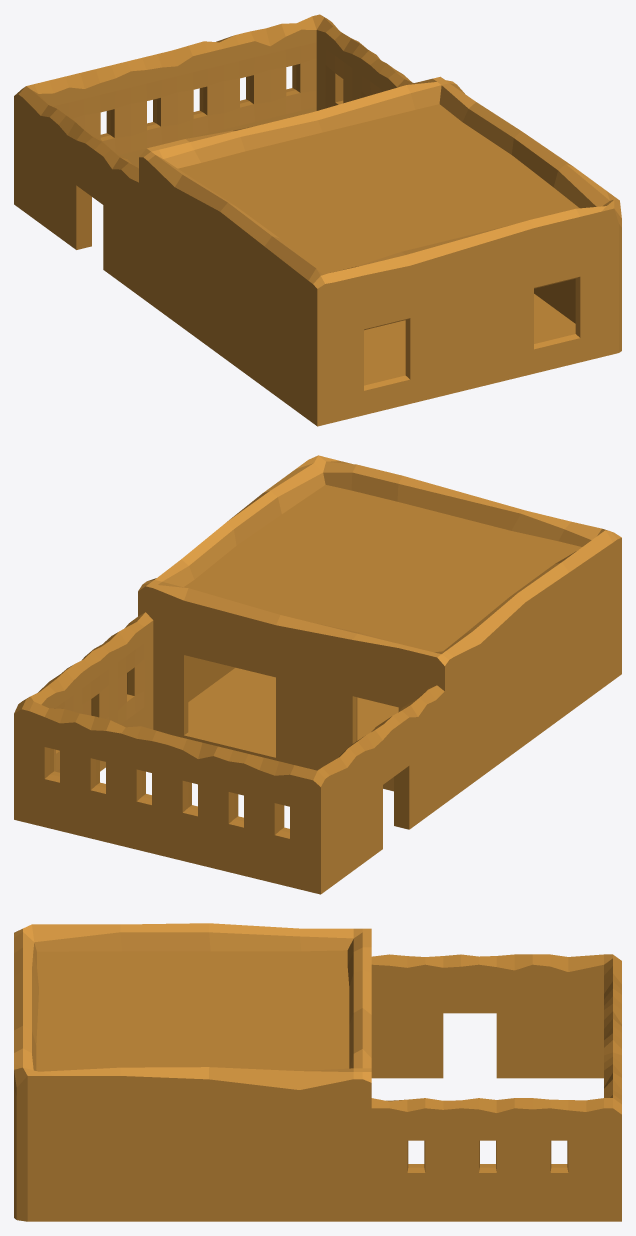
Rendered from Building_L3.fbx.
3 renders of one model, top to bottom at view 1: azimuth 30°, elevation 25°; view 2: azimuth 150°, elevation 25°; view 3: azimuth 270°, elevation 25°, orthographic.
Visible parts, largest first — view 1: Plane.009; view 2: Plane.009; view 3: Plane.009.
Boxes of the visible parts, <box> form: Plane.009: <box>14,14,621,426</box>; Plane.009: <box>14,455,621,894</box>; Plane.009: <box>14,923,621,1221</box>.
Size of the model in its own units: 200 by 93.28 by 340.
